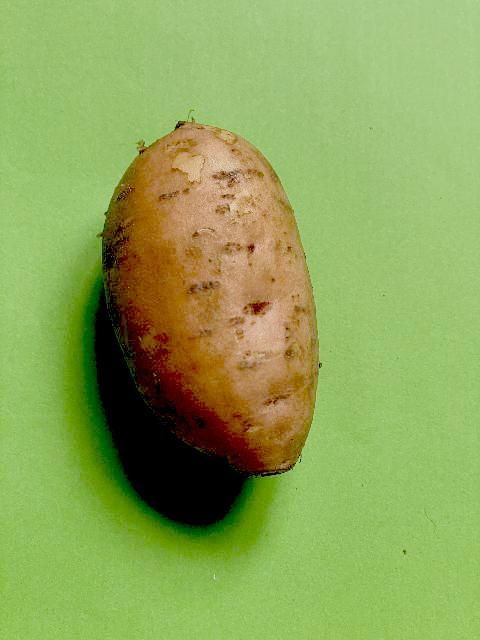sweetpotato: (98, 116, 322, 480)
